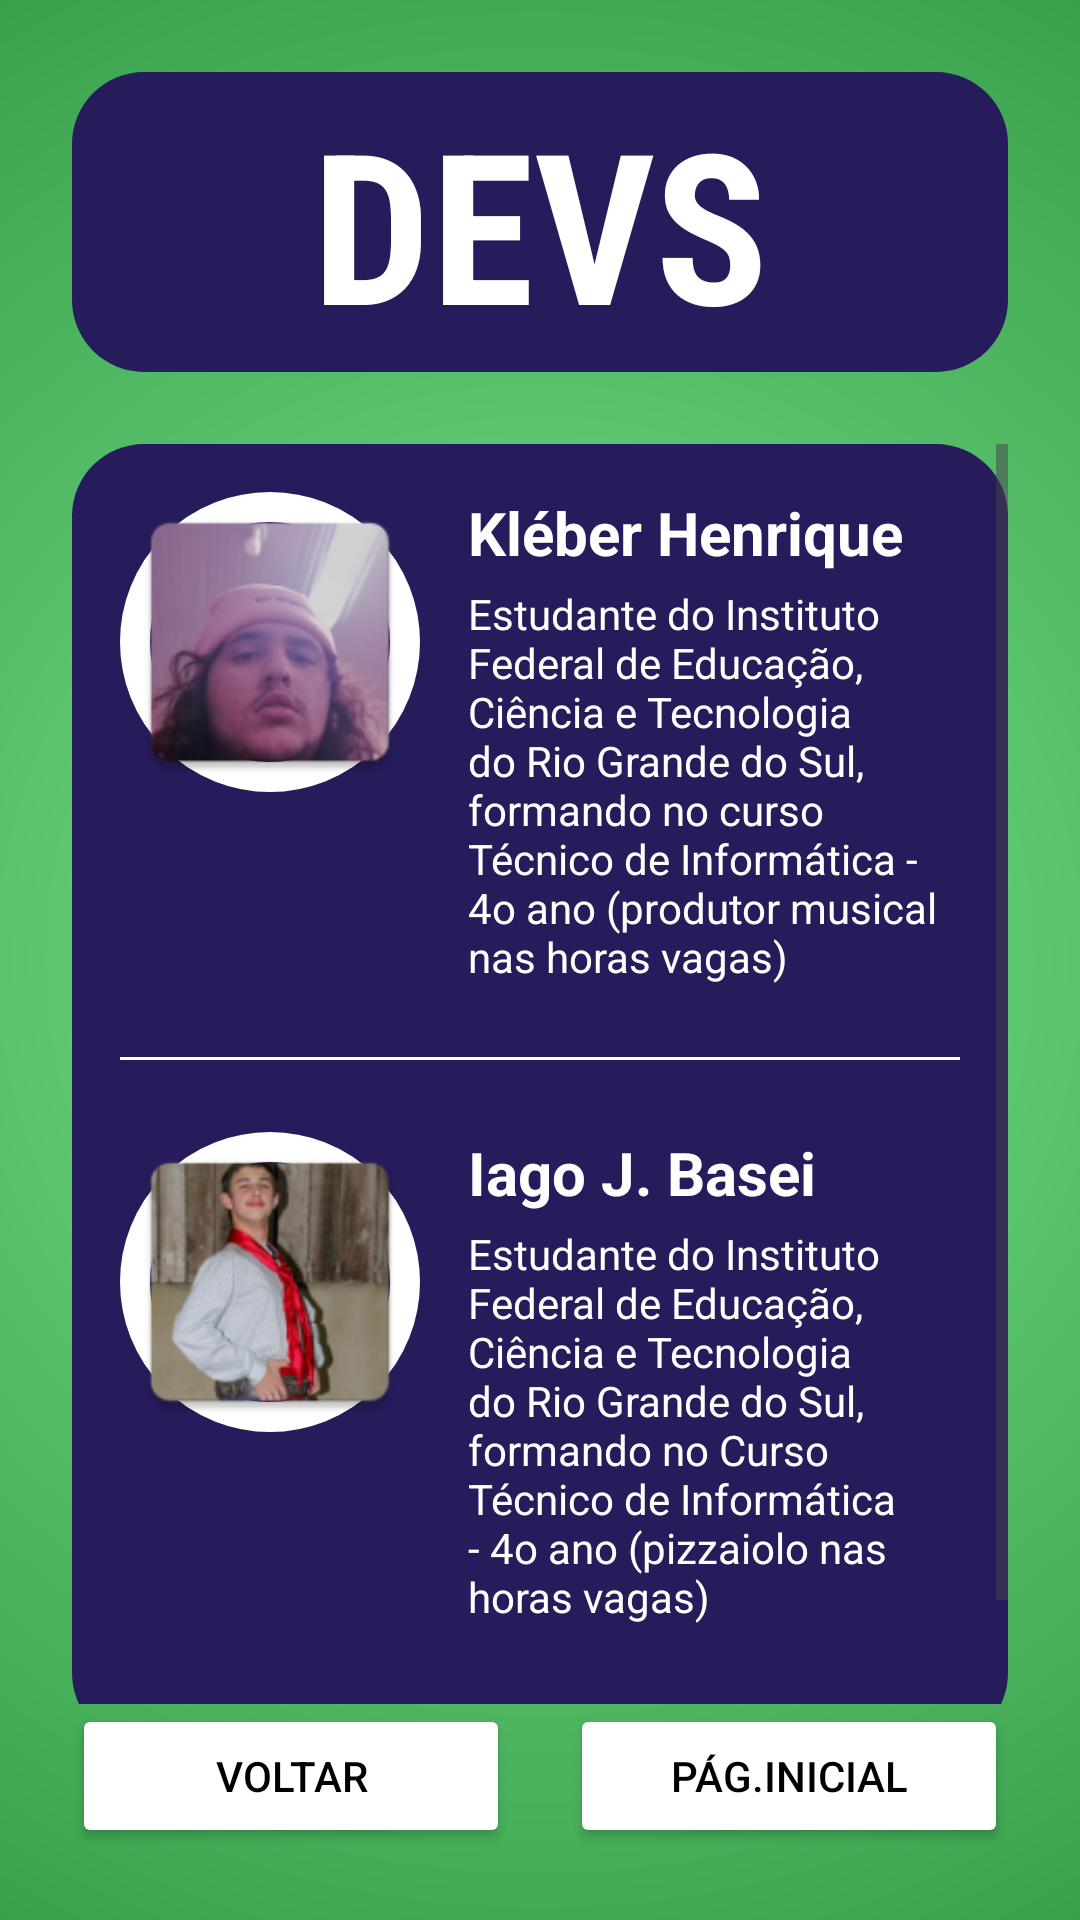

Icon bounding boxes for this 1080 x 1920 phone screenshot, format (x1, y1, x2, y2):
Foto do Iago: (120, 1132, 420, 1432)
Foto Kléber: (120, 492, 420, 792)
